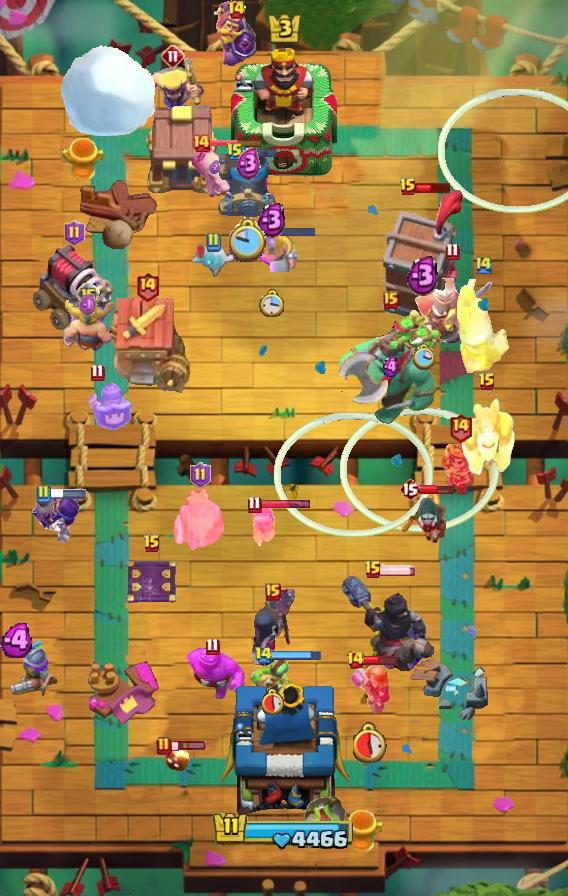axe: (322, 351, 390, 405)
bandit: (401, 494, 449, 546)
bar: (270, 650, 322, 661), (259, 499, 311, 510), (264, 226, 316, 237), (209, 138, 263, 147), (415, 181, 452, 194), (379, 564, 417, 576), (170, 740, 207, 752), (363, 654, 398, 666), (242, 146, 277, 158), (419, 484, 455, 495), (49, 489, 87, 499)
bar-level: (448, 412, 473, 443), (135, 271, 160, 302), (76, 282, 100, 306), (161, 44, 185, 68), (190, 462, 211, 488), (64, 220, 85, 246), (399, 477, 421, 501), (474, 254, 494, 275), (191, 133, 211, 153), (346, 650, 365, 670), (227, 0, 246, 20), (254, 646, 273, 665), (364, 560, 382, 580), (143, 534, 161, 554), (478, 372, 496, 392), (399, 177, 417, 197), (226, 142, 244, 162), (156, 736, 172, 756), (35, 484, 51, 504), (205, 232, 221, 252), (265, 583, 281, 601), (383, 291, 399, 309), (205, 637, 220, 656), (247, 495, 262, 514), (90, 363, 105, 382), (445, 242, 460, 261)
barbarian-evolution: (140, 58, 206, 119)
bomber-evolution: (29, 490, 81, 546)
clock: (229, 217, 268, 262), (353, 722, 388, 763), (259, 289, 285, 317), (412, 343, 435, 371), (262, 688, 285, 715)
elite-barbarian: (60, 300, 116, 354), (248, 229, 297, 272)
elixir: (406, 254, 440, 296), (0, 623, 37, 658), (257, 201, 287, 238), (236, 147, 261, 181), (79, 293, 98, 317), (381, 356, 401, 378), (209, 160, 220, 174)
elixir-golem-mid: (178, 645, 246, 701)
fire-spirit: (164, 743, 192, 773)
goblin-ball: (302, 794, 356, 842)
guard: (85, 373, 133, 433)
hog: (188, 147, 240, 201)
ice-spirit: (189, 240, 237, 280)
king-tower: (220, 678, 349, 826), (231, 43, 337, 181)
king-tower-bar: (212, 810, 356, 852)
knight: (456, 279, 512, 376)
knight-evolution: (214, 0, 258, 68)
little-prince: (441, 444, 479, 496)
mega-minion: (456, 397, 518, 477)
mortar: (218, 153, 278, 217)
musketeer: (0, 639, 60, 699)
night-witch: (248, 589, 298, 673)
royal-ghost: (172, 486, 228, 552)
skeleton-evolution: (252, 505, 276, 549)
spear-goblin: (250, 657, 298, 701)
valkyrie: (349, 664, 391, 714)
